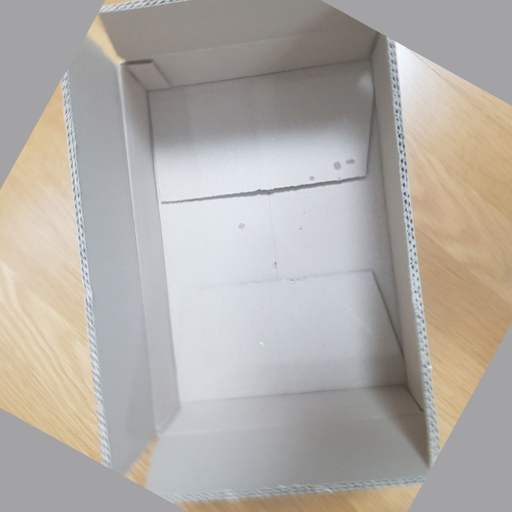Paper_0: (55, 1, 451, 508)
